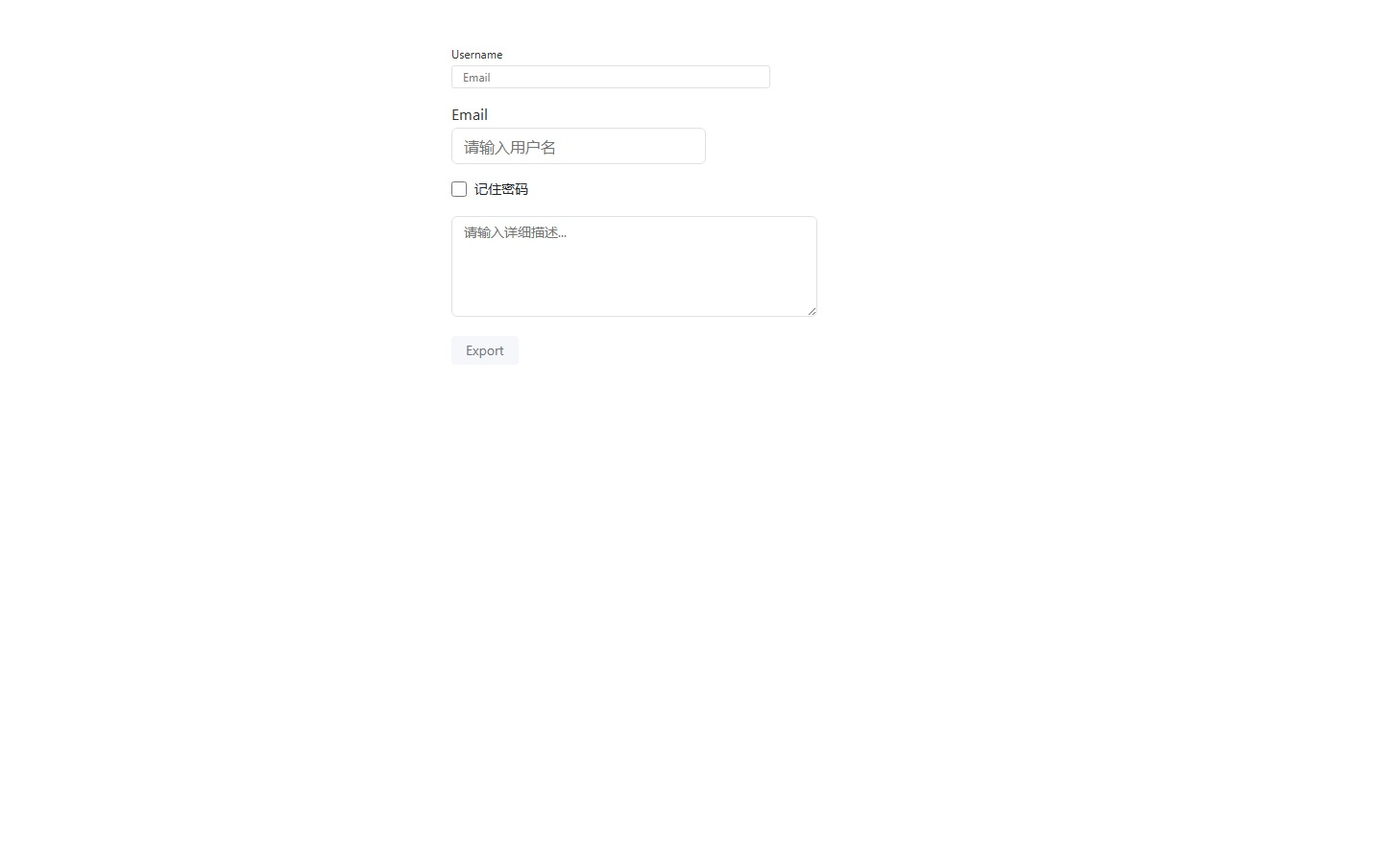button: (451, 336, 518, 364)
checkbox: (451, 181, 467, 196)
icon: (474, 180, 528, 198)
input: (451, 128, 706, 164), (451, 65, 770, 88)
radio: (451, 180, 528, 198)
textarea: (451, 216, 817, 316)
